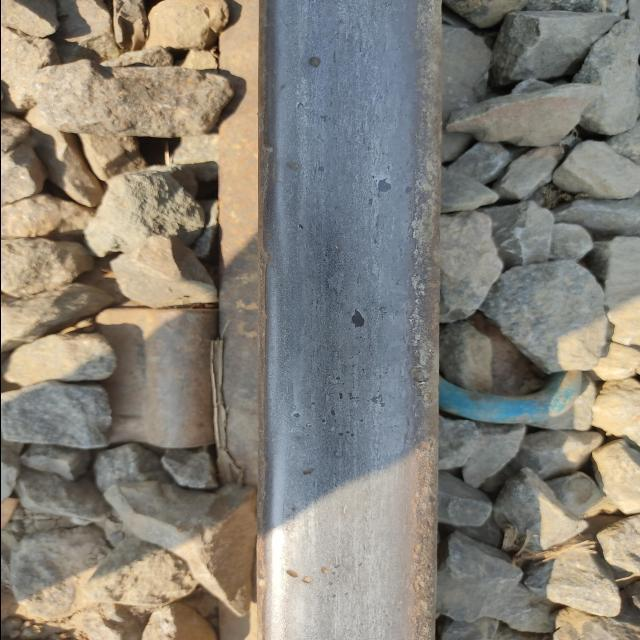head_checks_low: (287, 567, 330, 587), (347, 311, 369, 327), (300, 464, 320, 479), (303, 55, 322, 69), (373, 180, 395, 192), (292, 410, 304, 420)
